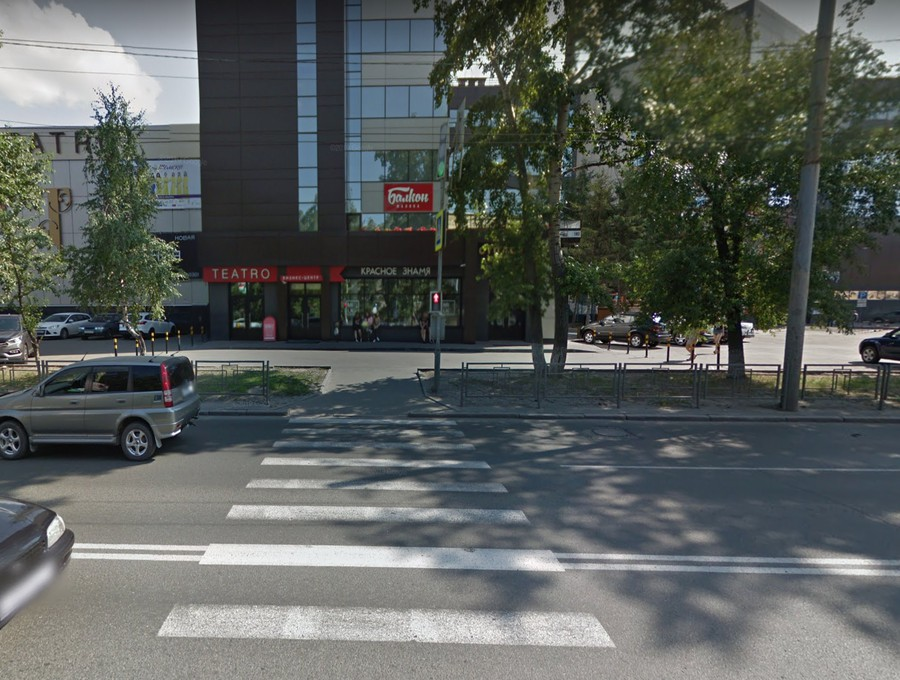Traffic Light-red: (428, 289, 444, 317)
